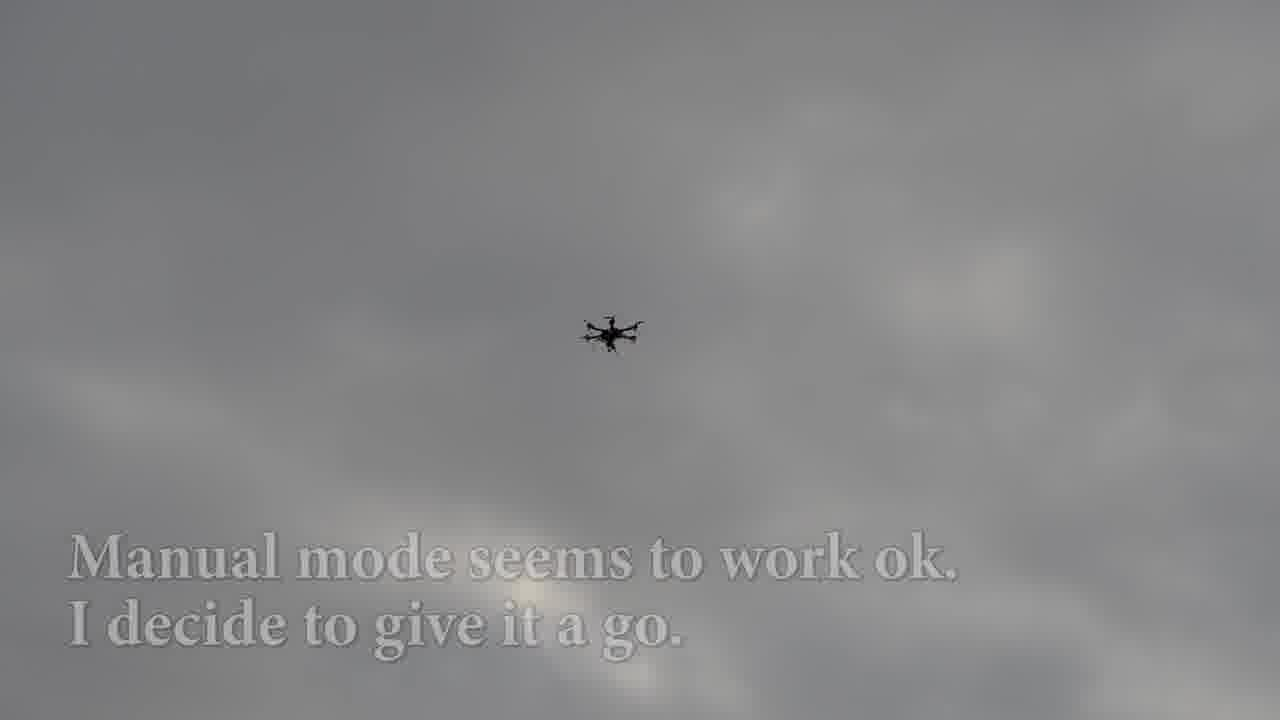drone: (570, 305, 648, 358)
